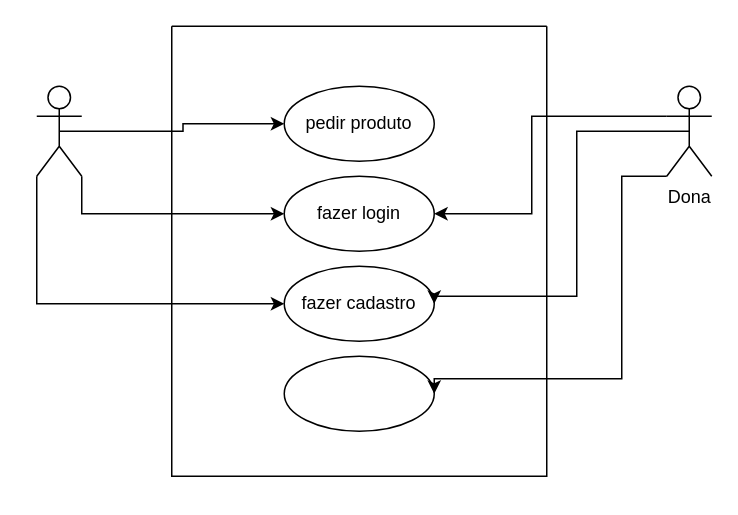
The diagram is 738 pixels wide and 515 high, and some of its shapes have lost their labels. The centre of each missing label's shape, as x and y in pixels:
cadastrar produtos: (358,393)
Cliente: (58,130)
